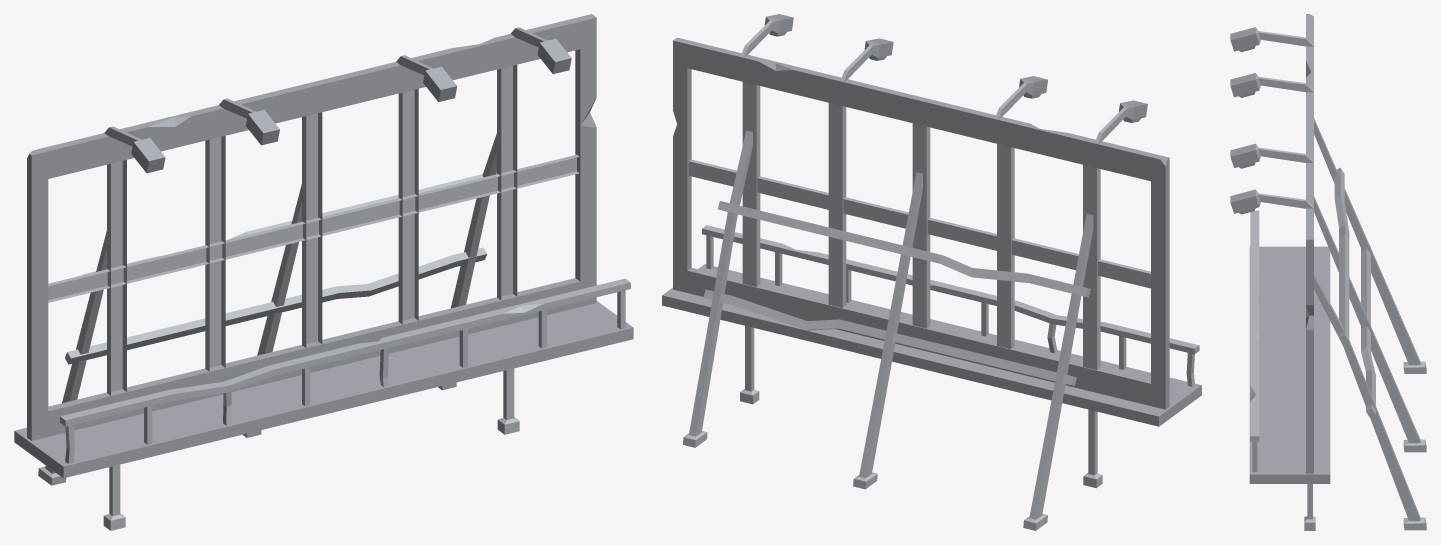
Rendered from BilBoard.fbx.
3 renders of one model, left to right at view 1: azimuth 30°, elevation 25°; view 2: azimuth 150°, elevation 25°; view 3: azimuth 270°, elevation 25°, orthographic. The views are drawn at different scales.
Visible parts, largest first — view 1: BilBoard; view 2: BilBoard; view 3: BilBoard.
Boxes of the visible parts, x1,y1,x2,y2 form: BilBoard: (14, 14, 633, 530); BilBoard: (662, 14, 1201, 530); BilBoard: (1230, 14, 1426, 530).
Size of the model in its own units: 886 by 613 by 322.
